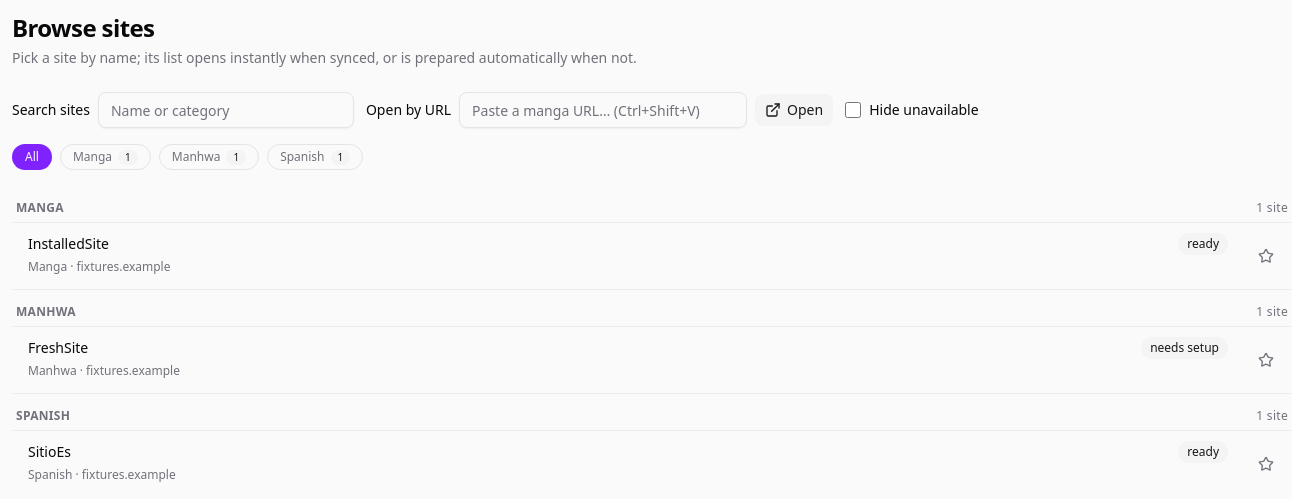
SitePickerPage (browse default state) › toggling a selected chip off drops just that category
The width and height of the screenshot is (1292, 499).
Expected: the text "InstalledSite" is shown, [28,234,109,253]
Click the button "Manhwa 1": click(209, 157) [159,144,259,170]
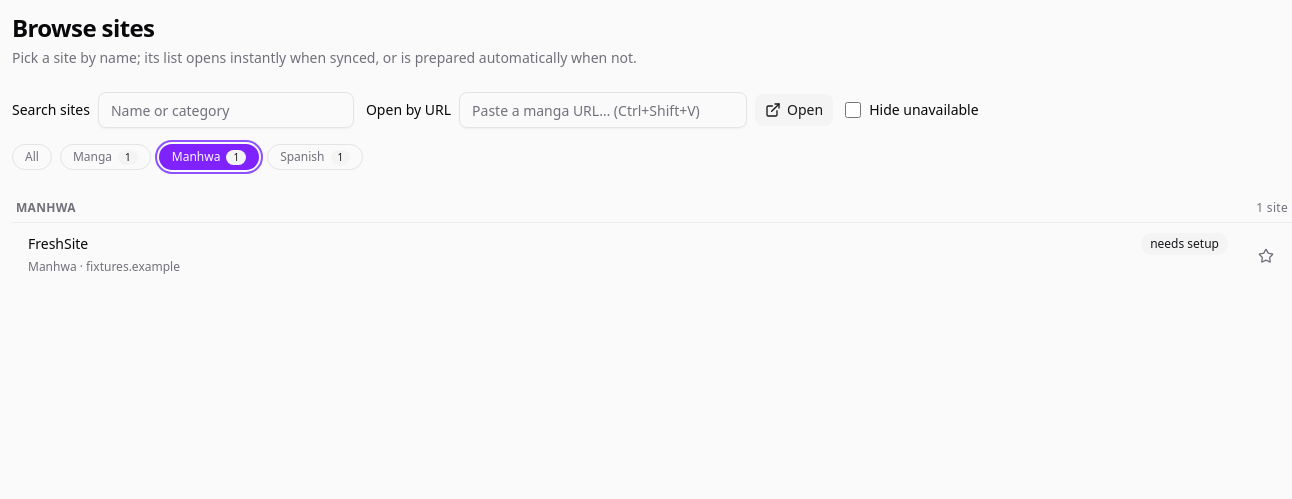
Click the button "Spanish 1": click(315, 157) [267,144,363,170]
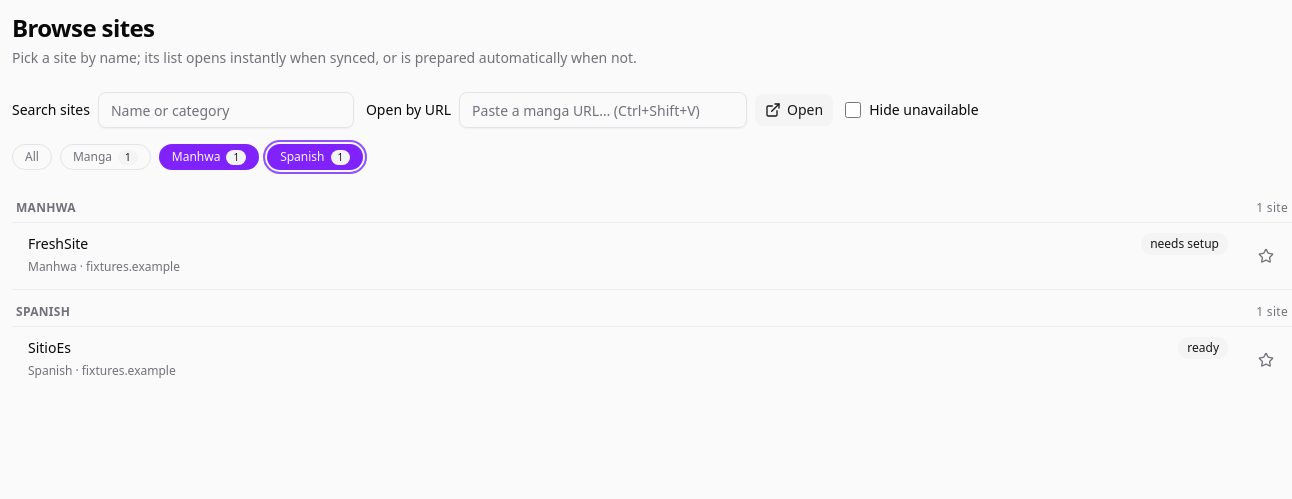
Click the button "Spanish 1": click(315, 157) [267,144,363,170]
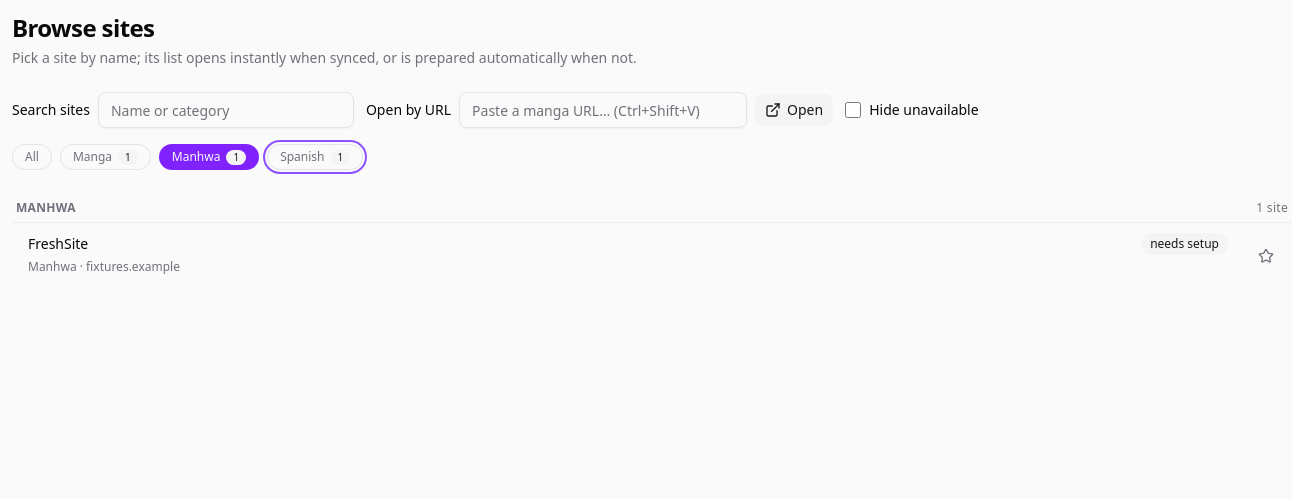
Expected: the text "FreshSite" is shown, [28,234,88,253]
Now the button "SitioEs" is gone
